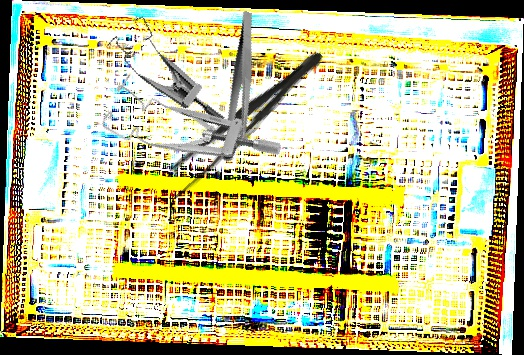Dressing Forceps: (157, 41, 332, 204), (196, 10, 288, 153)
Speculum: (95, 58, 286, 210), (96, 7, 250, 126)
